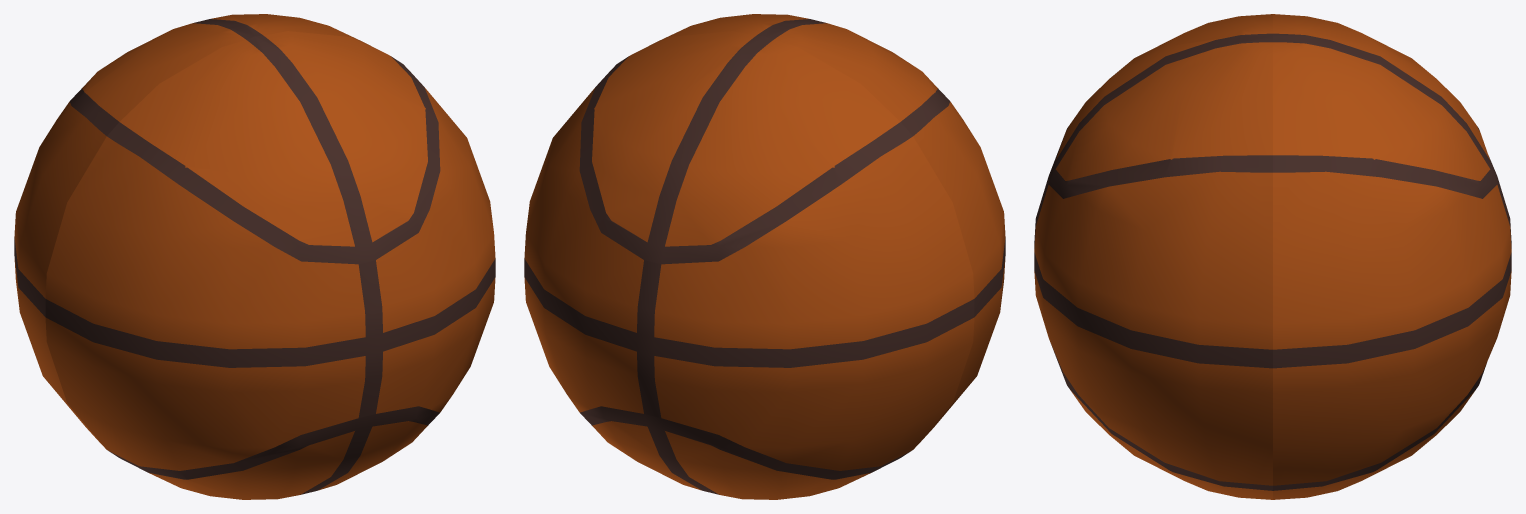
Rendered from human-sports-basketball_v1.fbx.
3 renders of one model, left to right at view 1: azimuth 30°, elevation 25°; view 2: azimuth 150°, elevation 25°; view 3: azimuth 270°, elevation 25°, orthographic.
Parts seen in each view (by area): view 1: Basketball.001; view 2: Basketball.001; view 3: Basketball.001.
Part boxes in pixels (x1=…): Basketball.001: x1=14, y1=14, x2=495, y2=499; Basketball.001: x1=524, y1=14, x2=1005, y2=499; Basketball.001: x1=1034, y1=14, x2=1511, y2=499.
Size of the model in its own units: 0.2385 by 0.24 by 0.2356.
